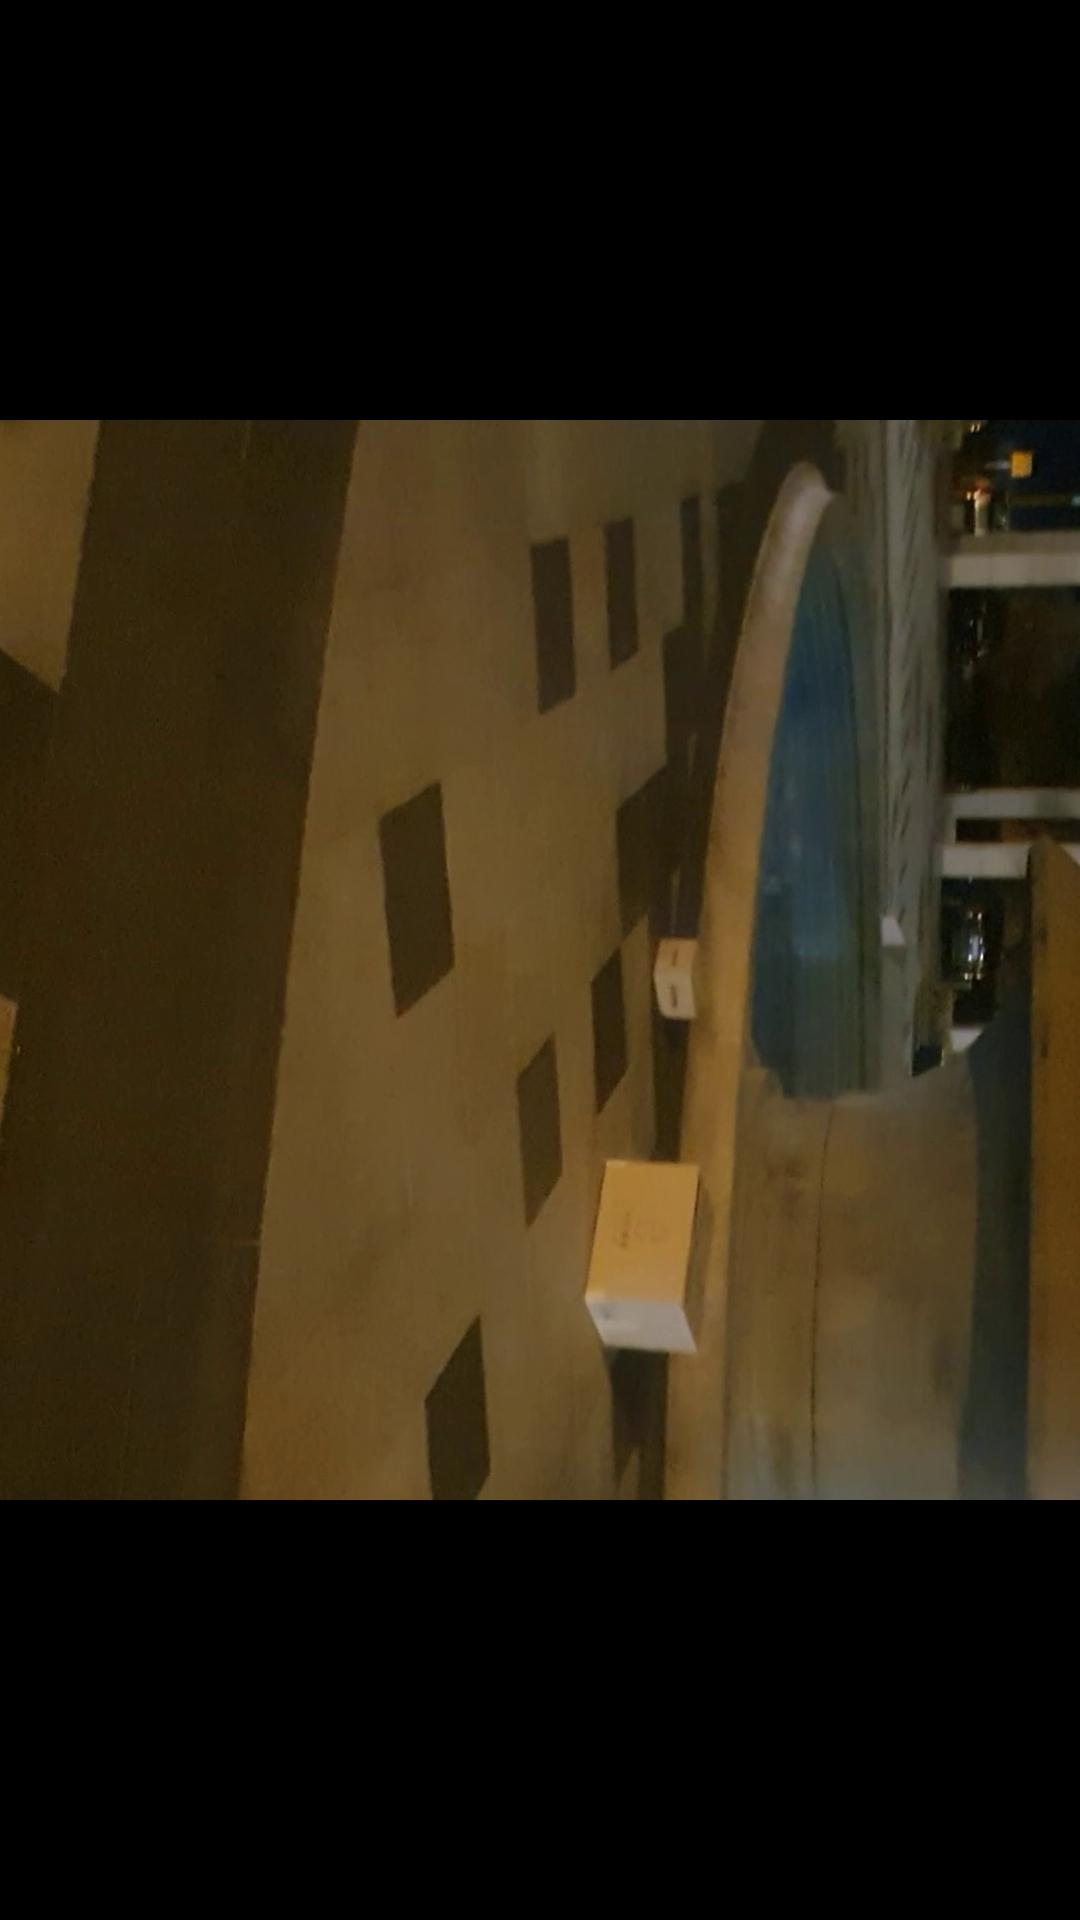Box: (578, 1133, 720, 1382), (645, 926, 723, 1044)
